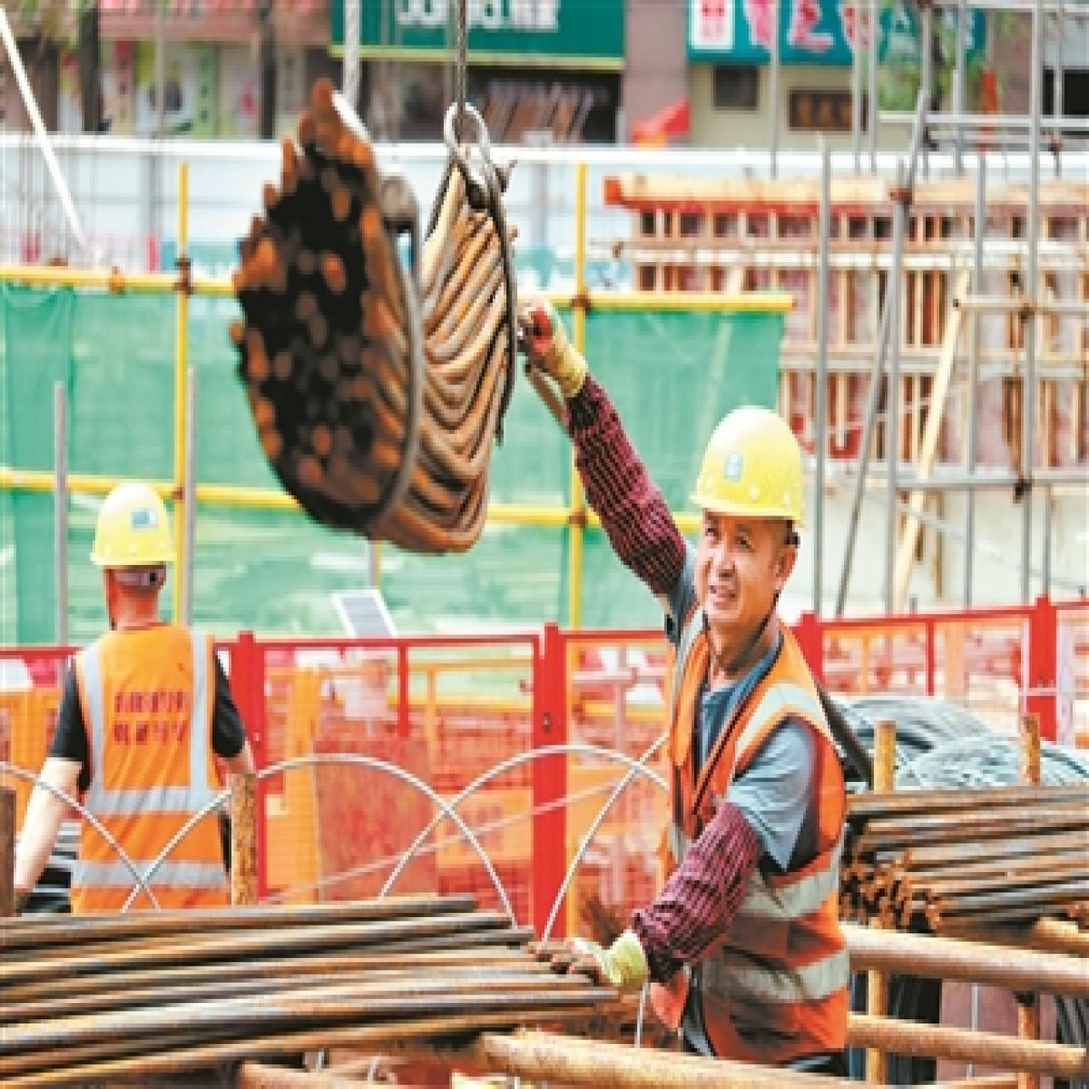Person: (528, 324, 949, 1089), (0, 465, 275, 940)
Safety_Vest: (646, 600, 867, 1058), (55, 633, 239, 902)
